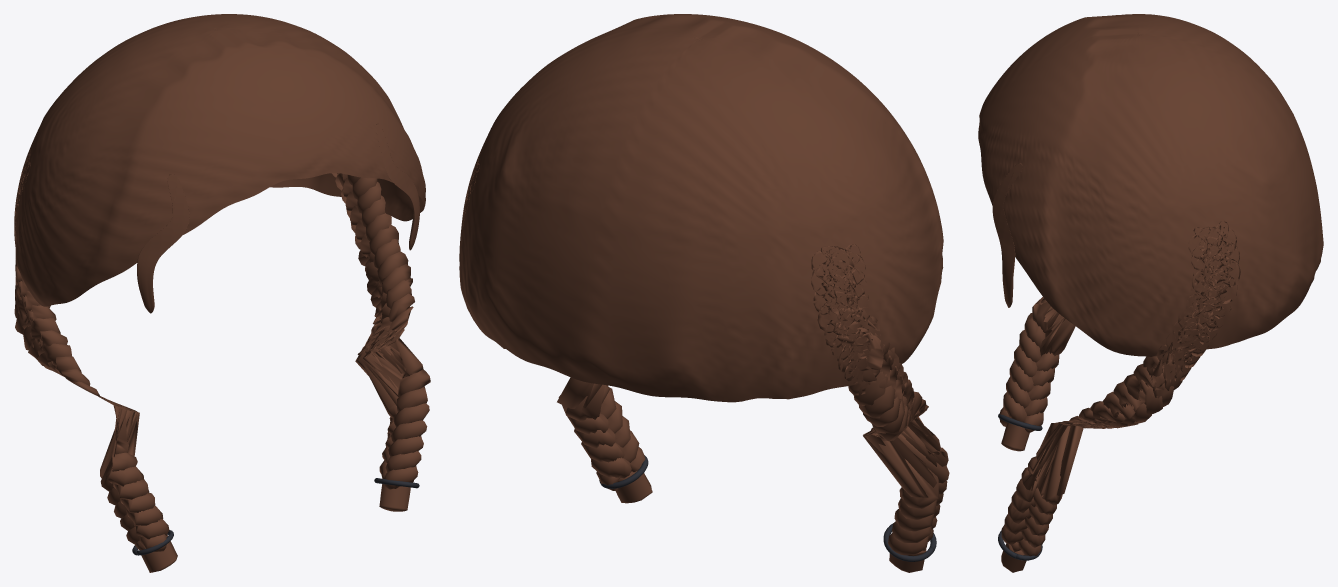
Rendered from Feminine-twin-braids-covered-hair236.glb.
3 renders of one model, left to right at view 1: azimuth 30°, elevation 25°; view 2: azimuth 150°, elevation 25°; view 3: azimuth 270°, elevation 25°, orthographic. The views are drawn at different scales.
Visible parts, largest first — view 1: 226 hair / Hair / chestnut226.002, 226 hair / Hair / ties226.002; view 2: 226 hair / Hair / chestnut226.002, 226 hair / Hair / ties226.002; view 3: 226 hair / Hair / chestnut226.002, 226 hair / Hair / ties226.002.
Boxes of the visible parts, x1,y1,x2,y2 form: 226 hair / Hair / chestnut226.002: (14, 14, 430, 572); 226 hair / Hair / ties226.002: (132, 478, 419, 555); 226 hair / Hair / chestnut226.002: (459, 14, 949, 572); 226 hair / Hair / ties226.002: (599, 455, 936, 561); 226 hair / Hair / chestnut226.002: (978, 14, 1323, 572); 226 hair / Hair / ties226.002: (998, 413, 1042, 560).
Bounding box in the file's own units: 0.9633 × 1.17 × 0.7725.
